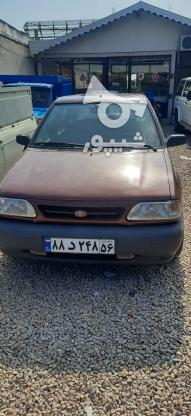car: (41, 237, 116, 255)
